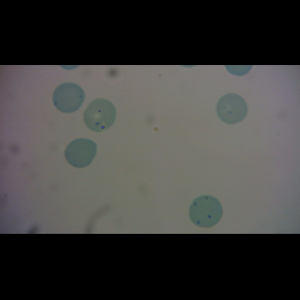erythrocyte: (82, 98, 118, 134), (63, 137, 99, 169)
punctate reticulocyte: (188, 194, 225, 229), (52, 81, 87, 114), (215, 93, 250, 126)
